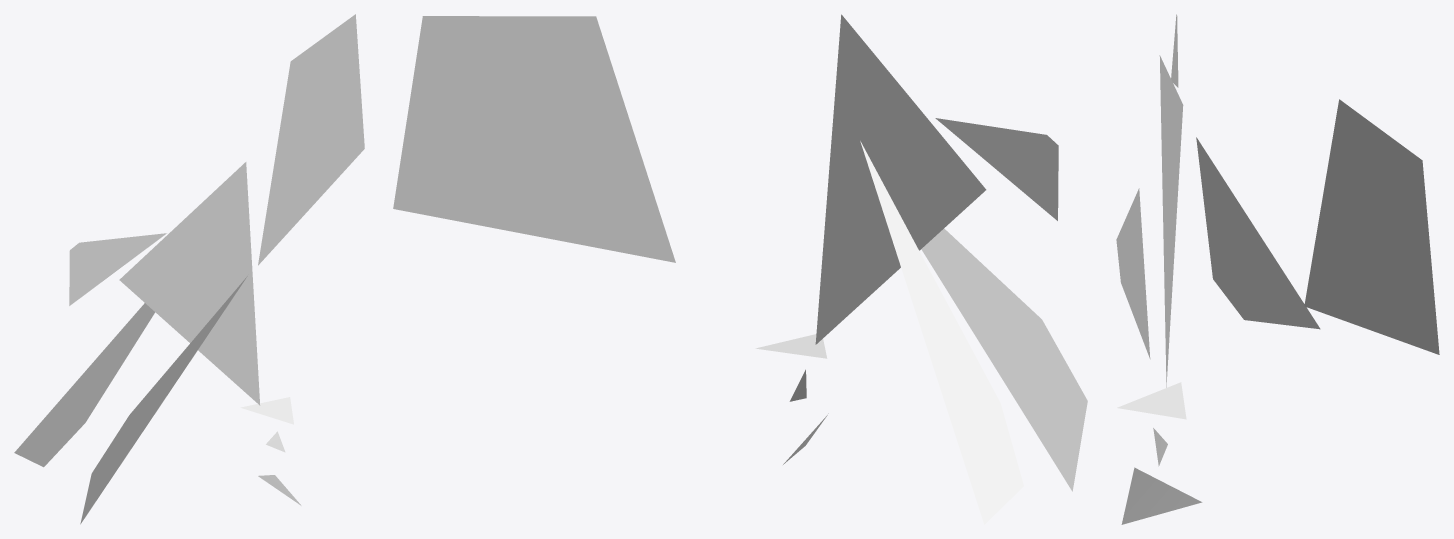
3 views of the same model, side by side, from view 1: azimuth 30°, elevation 25°; view 2: azimuth 150°, elevation 25°; view 3: azimuth 270°, elevation 25° (orthographic). The views are drawn at different scales.
Size of the model in its own units: 0.2233 by 0.1967 by 0.1222.
Materials: 1 (1 with a texture image).
